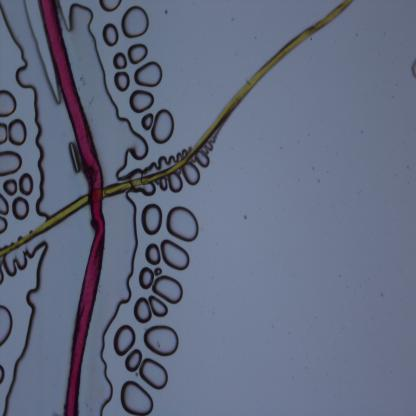Air bubble: (66, 3, 149, 180), (0, 0, 62, 213), (90, 192, 140, 415), (0, 237, 56, 415), (25, 1, 62, 105), (166, 204, 200, 243), (142, 323, 180, 356), (119, 381, 154, 415), (140, 356, 170, 392), (150, 274, 184, 304), (121, 6, 150, 40), (111, 324, 137, 360), (160, 240, 190, 271), (152, 108, 176, 145), (133, 61, 164, 89), (141, 202, 163, 236), (0, 148, 23, 180), (0, 303, 15, 348), (130, 89, 155, 115), (148, 152, 177, 173), (8, 117, 28, 146), (0, 88, 17, 119), (182, 162, 201, 188), (125, 350, 144, 376), (127, 43, 148, 66), (12, 195, 30, 221), (134, 297, 152, 323), (68, 140, 82, 173), (149, 294, 168, 318), (102, 23, 120, 48), (113, 71, 131, 93), (145, 242, 162, 265), (18, 172, 34, 195), (168, 172, 184, 194), (139, 266, 154, 289), (135, 182, 157, 197), (113, 50, 128, 70), (196, 150, 212, 168), (3, 177, 17, 196), (100, 1, 124, 12), (142, 112, 155, 132), (0, 196, 10, 216), (0, 214, 9, 236), (0, 122, 8, 146), (0, 366, 6, 386), (161, 178, 169, 191), (0, 267, 5, 285), (153, 267, 162, 276)
Background material: (410, 60, 416, 81)
Hair textile: (39, 0, 105, 416)
Microfibre: (0, 0, 352, 258)
